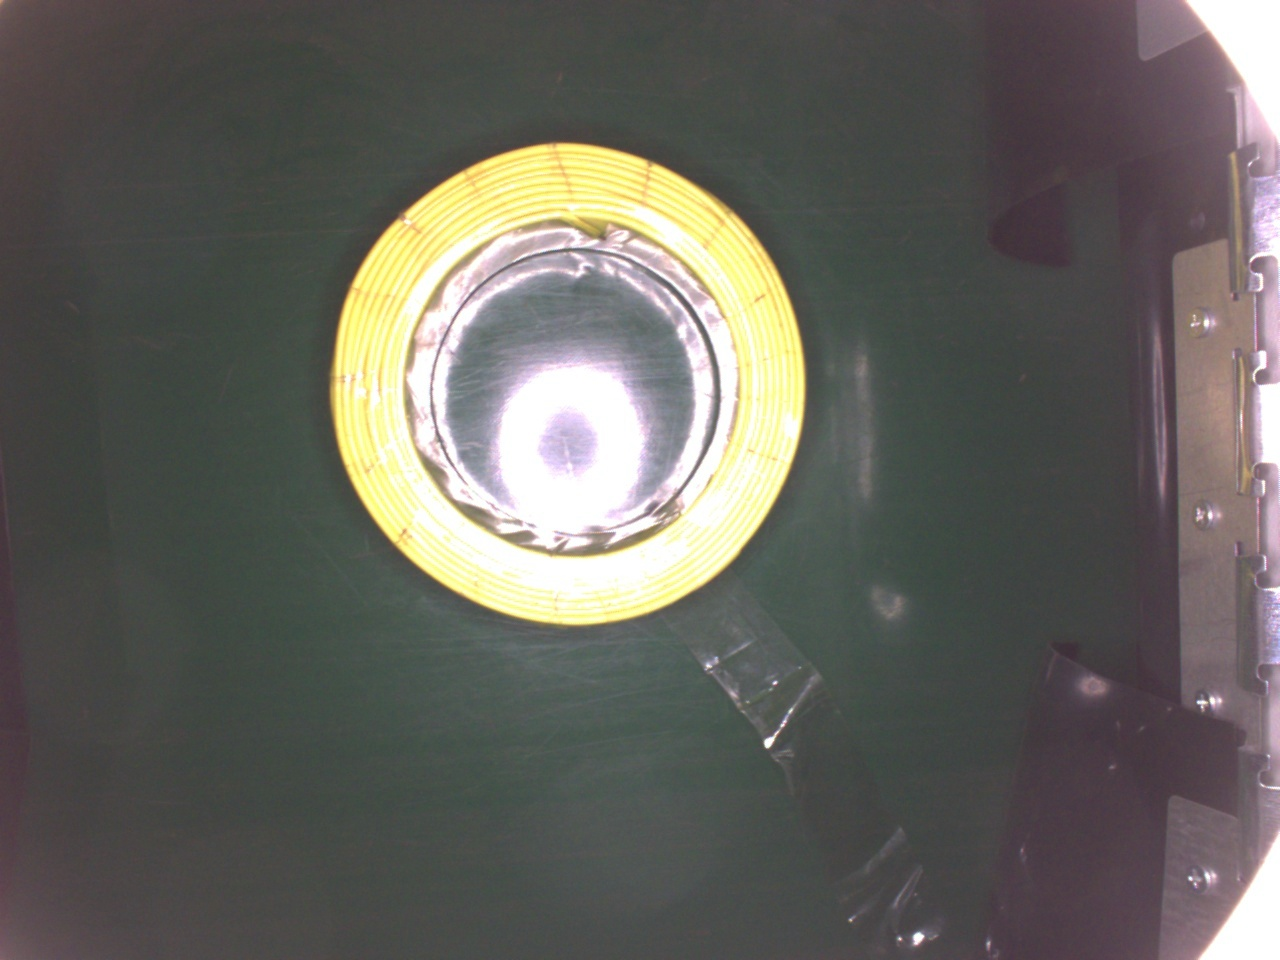yellow: (322, 134, 806, 627)
